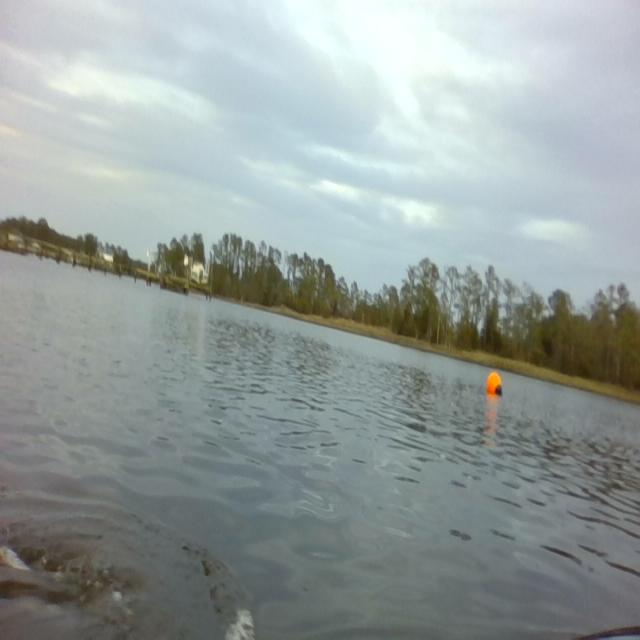Buoy: (485, 369, 504, 399)
